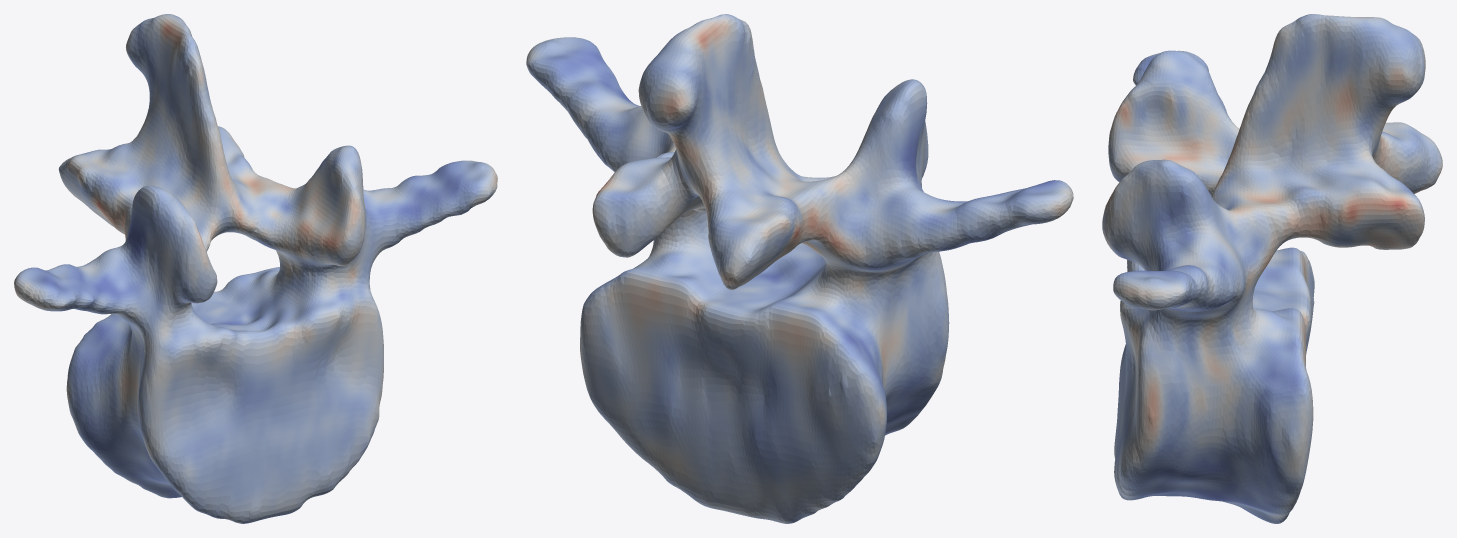
The model's file is colored_output.glb.
3 renders of one model, left to right at view 1: azimuth 30°, elevation 25°; view 2: azimuth 150°, elevation 25°; view 3: azimuth 270°, elevation 25°, orthographic. The views are drawn at different scales.
Parts seen in each view (by area): view 1: Patient_001_L2+oriented.stl; view 2: Patient_001_L2+oriented.stl; view 3: Patient_001_L2+oriented.stl.
Boxes of the visible parts, x1,y1,x2,y2 form: Patient_001_L2+oriented.stl: (14, 14, 497, 523); Patient_001_L2+oriented.stl: (526, 14, 1073, 523); Patient_001_L2+oriented.stl: (1102, 14, 1442, 523).
Size of the model in its own units: 96.17 by 86.89 by 54.38.
